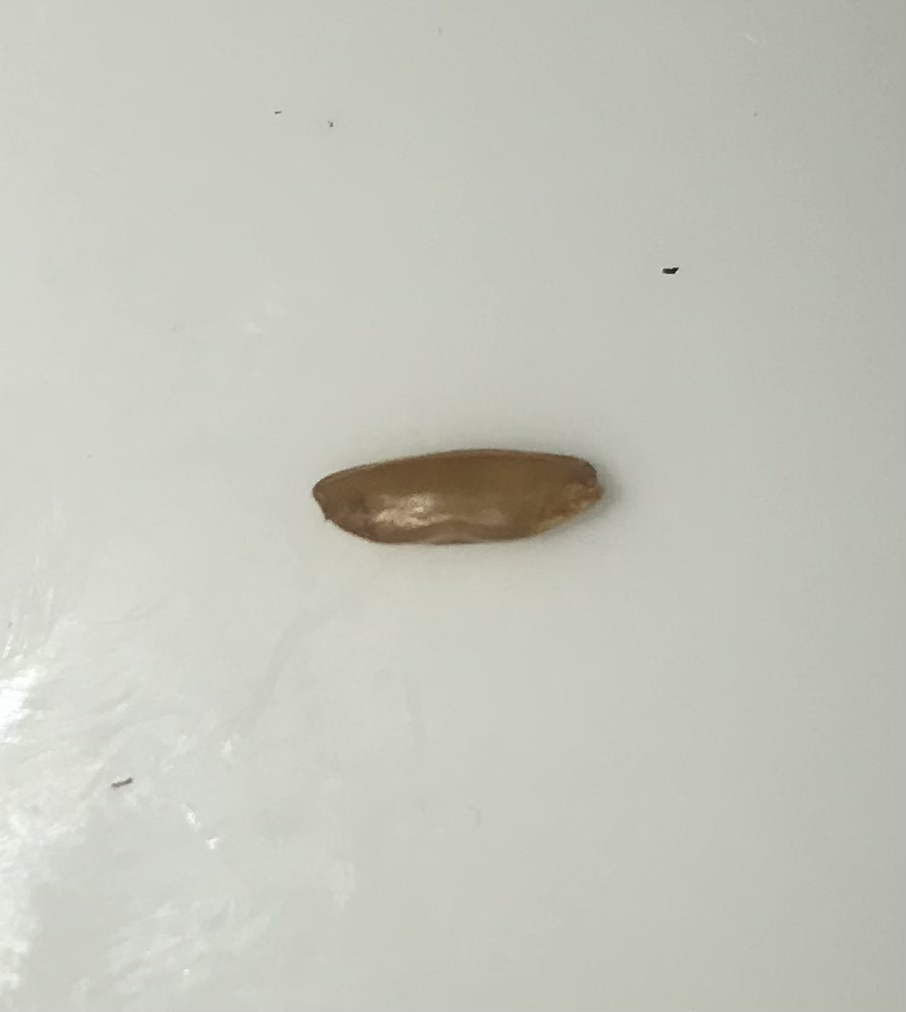Gao Lut Dien Bien: (322, 444, 617, 563)
